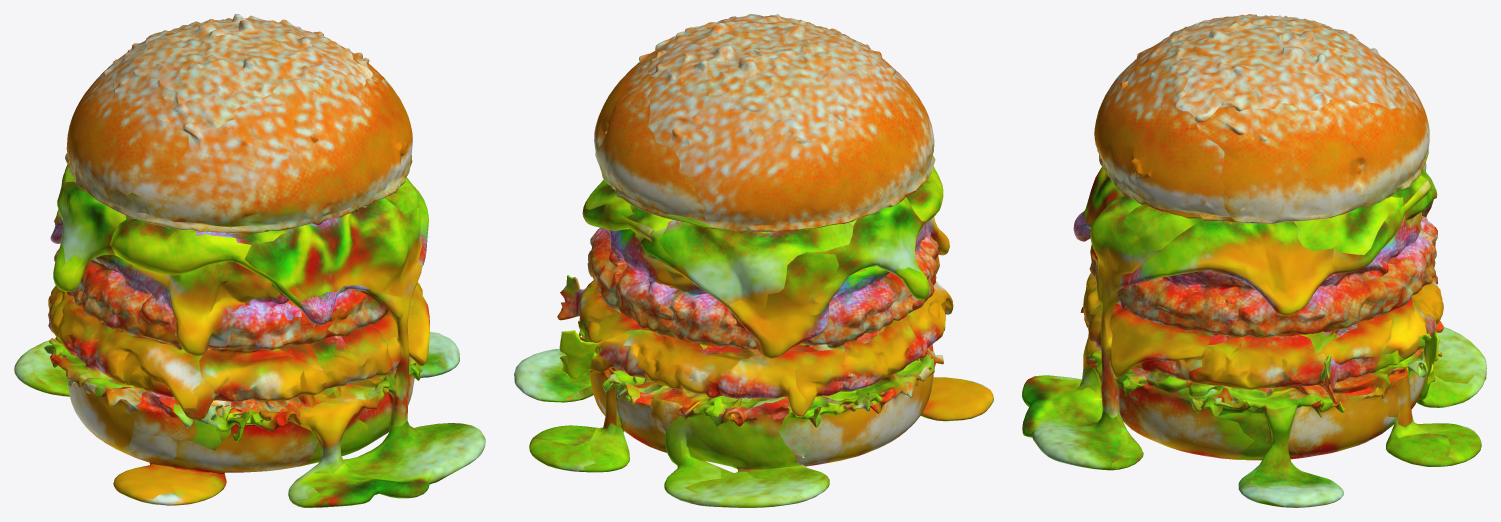
The model's file is paint-it.glb.
The picture shows the model from 3 angles, left to right: view 1: azimuth 30°, elevation 25°; view 2: azimuth 150°, elevation 25°; view 3: azimuth 270°, elevation 25°; orthographic projection. The views are drawn at different scales.
Parts seen in each view (by area): view 1: mesh; view 2: mesh; view 3: mesh.
Boxes of the visible parts, x1,y1,x2,y2 form: mesh: (14,14,485,507); mesh: (514,14,993,507); mesh: (1022,14,1486,507).
Size of the model in its own units: 1.95 by 1.77 by 2.
1 material, 1 textured.
